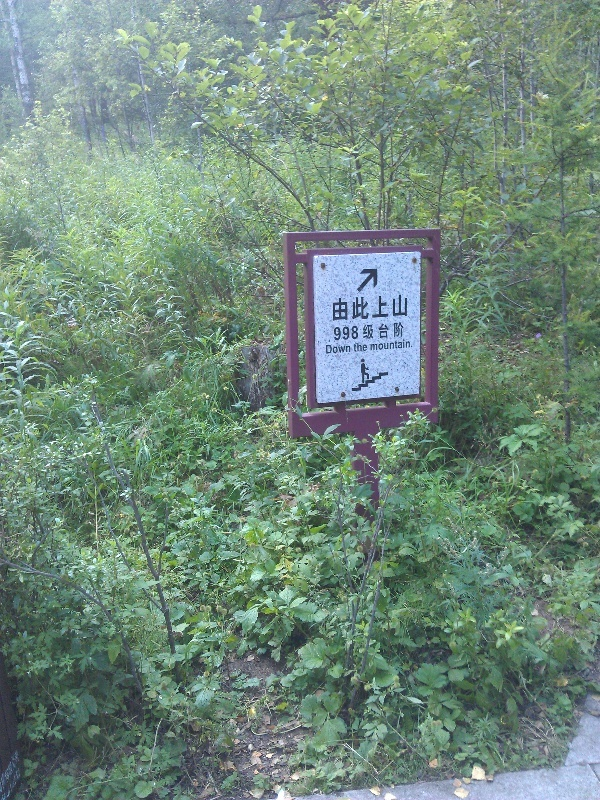text: (337, 294, 352, 322), (353, 294, 368, 322), (369, 294, 384, 322), (385, 294, 400, 322), (337, 321, 352, 342), (353, 321, 368, 342), (369, 321, 384, 342), (385, 321, 400, 342), (401, 294, 409, 322), (385, 339, 400, 352), (371, 339, 384, 352), (401, 339, 414, 352), (337, 343, 351, 355), (353, 342, 368, 353), (331, 294, 336, 322), (325, 343, 336, 355), (333, 321, 336, 342), (401, 321, 404, 342)
